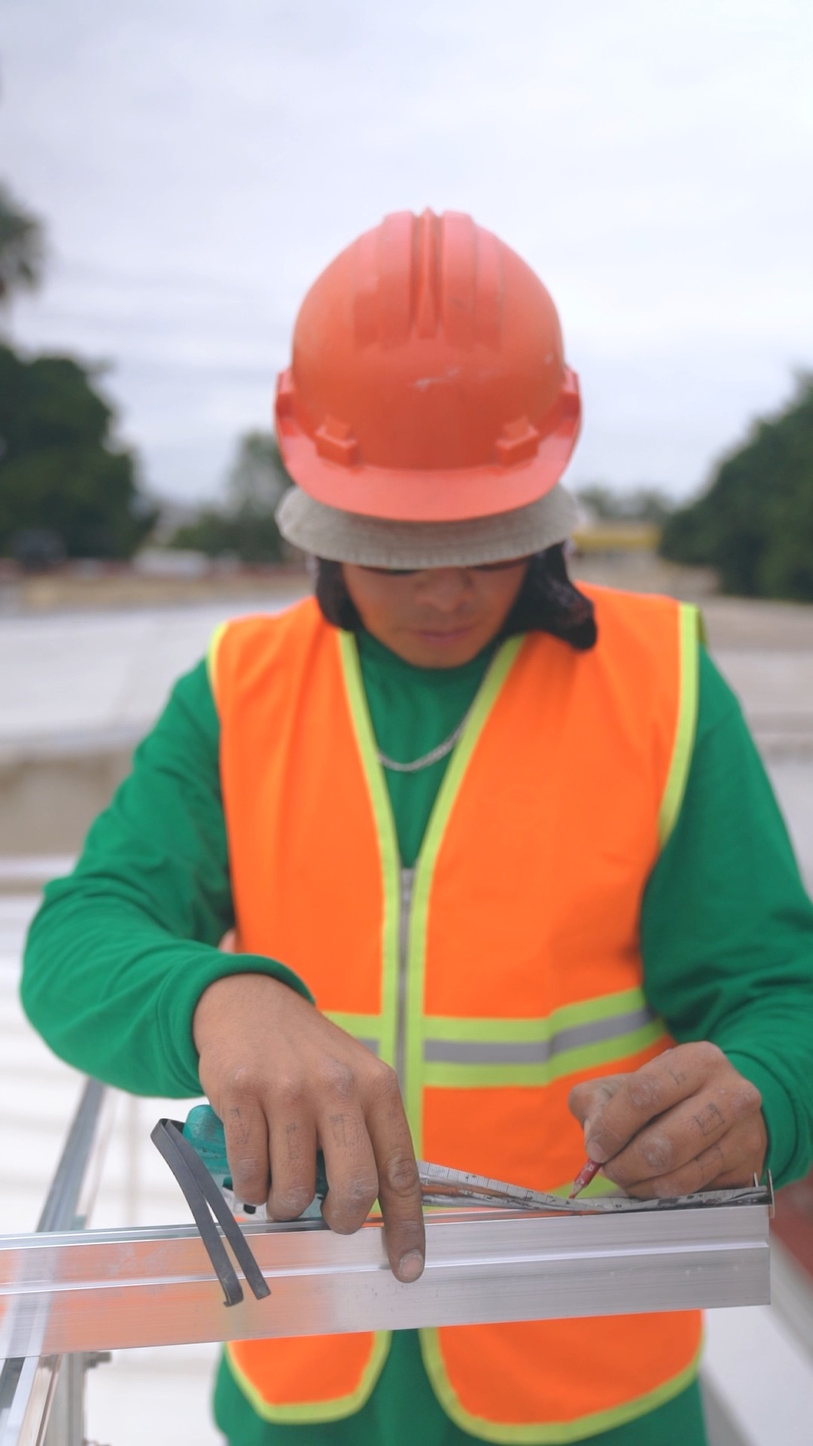No-gloves: (186, 972, 474, 1296), (548, 1010, 788, 1268)
